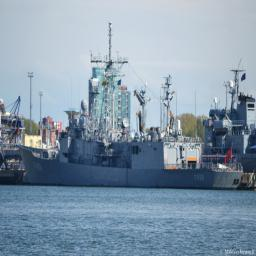Fragata: (15, 18, 245, 192)
